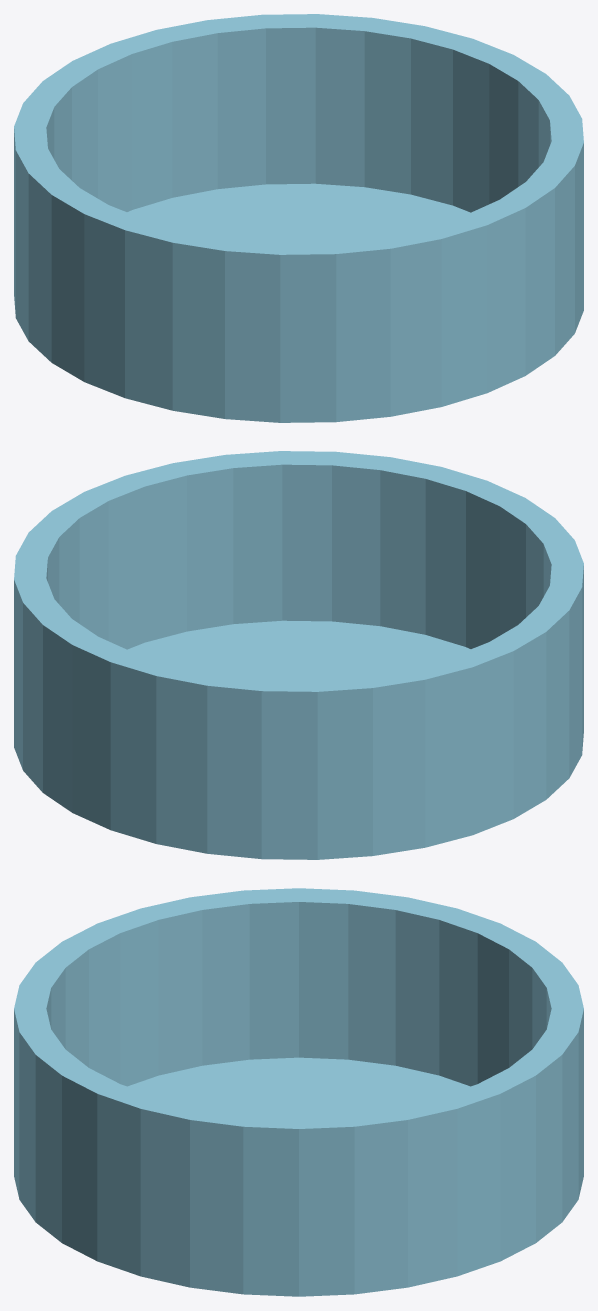
File: blude.fbx
3 renders of one model, top to bottom at view 1: azimuth 30°, elevation 25°; view 2: azimuth 150°, elevation 25°; view 3: azimuth 270°, elevation 25°, orthographic.
Visible parts, largest first — view 1: Цилиндр; view 2: Цилиндр; view 3: Цилиндр.
Boxes of the visible parts, x1,y1,x2,y2 form: Цилиндр: [14, 14, 583, 422]; Цилиндр: [14, 451, 583, 859]; Цилиндр: [14, 888, 583, 1296].
Size of the model in its own units: 81.62 by 26.5 by 81.62.
